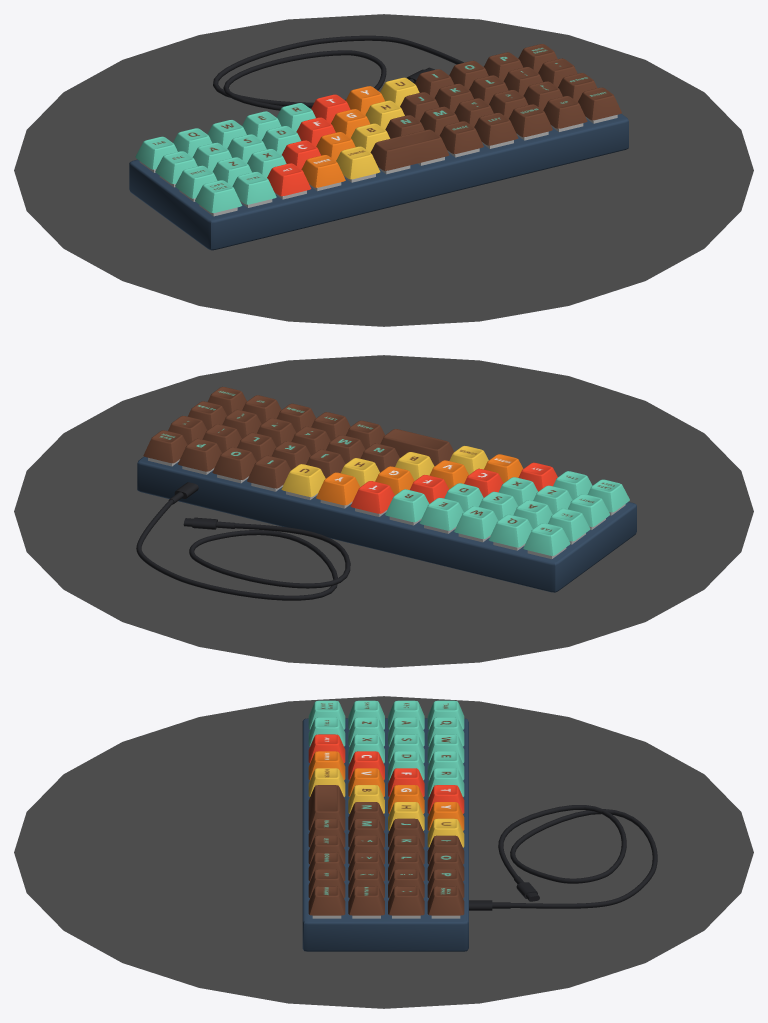
3 views of the same model, one above another, from view 1: azimuth 30°, elevation 25°; view 2: azimuth 150°, elevation 25°; view 3: azimuth 270°, elevation 25° (orthographic).
Parts seen in each view (by area): view 1: Cylinder001, KeyLP, pohjaLP, Line001, Cherry; view 2: Cylinder001, KeyLP, pohjaLP, Line001, Cherry, USBLP; view 3: Cylinder001, KeyLP, pohjaLP, Line001, USBLP.
Boxes of the visible parts, left/top/right/bottom form: Cylinder001: left=14, top=14, right=753, bottom=326; KeyLP: left=135, top=44, right=621, bottom=212; pohjaLP: left=129, top=113, right=628, bottom=250; Line001: left=213, top=35, right=463, bottom=110; Cherry: left=139, top=115, right=617, bottom=216; Cylinder001: left=14, top=355, right=753, bottom=667; KeyLP: left=143, top=386, right=629, bottom=555; pohjaLP: left=137, top=456, right=636, bottom=592; Line001: left=136, top=499, right=350, bottom=600; Cherry: left=148, top=457, right=625, bottom=559; USBLP: left=168, top=482, right=234, bottom=529; Cylinder001: left=14, top=696, right=753, bottom=1008; KeyLP: left=308, top=700, right=464, bottom=915; pohjaLP: left=302, top=718, right=468, bottom=951; Line001: left=498, top=805, right=657, bottom=908; USBLP: left=469, top=876, right=539, bottom=910.
Size of the model in its own units: 2 by 0.1559 by 2.
6 materials, 5 textured.
